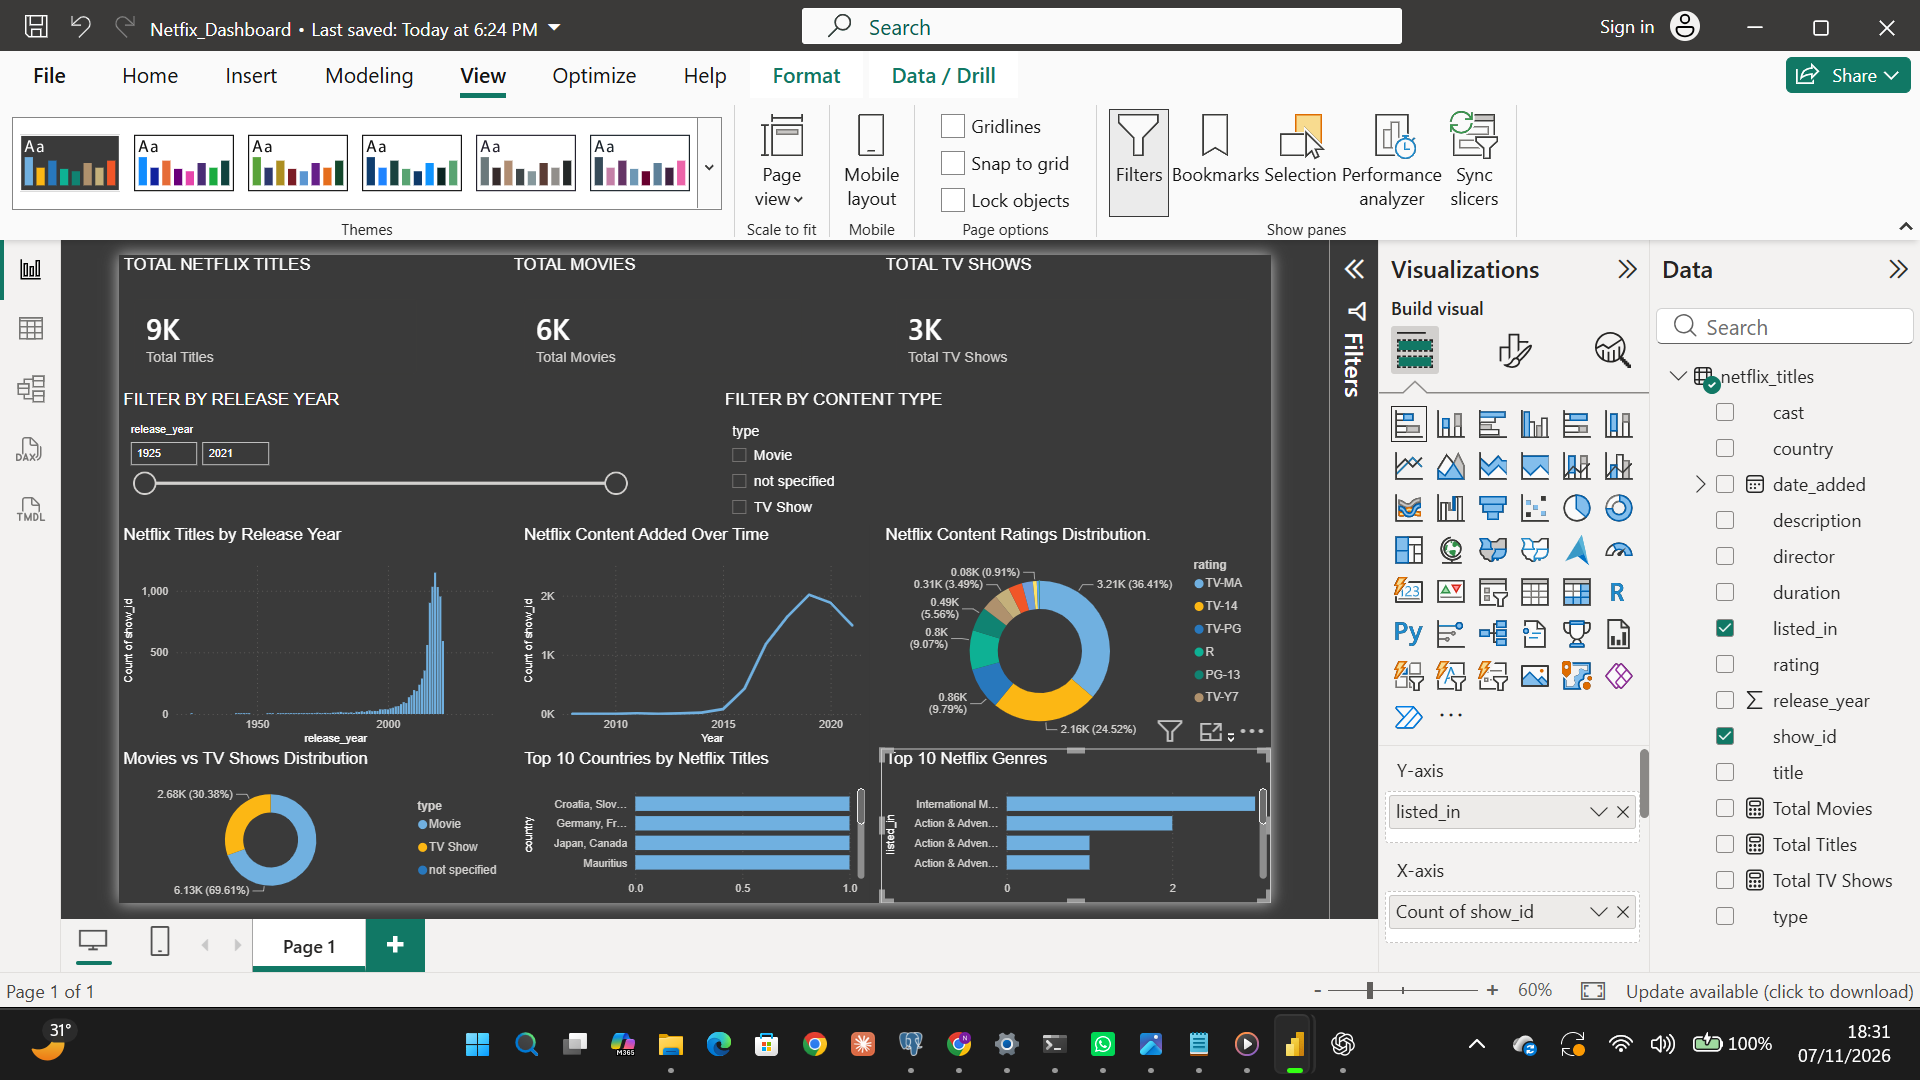

The dashboard page shown, as its layout file describes it:
{"tool":"powerbi","page":{"name":"Page 1","canvas":[1280,720],"ordinal":0},"visuals":[{"type":"donutChart","title":"Movies vs TV Shows Distribution","fields":{"Category":["netflix_titles.type"],"Y":["Count(netflix_titles.show_id)"]},"box":[0,548.3,433.3,171.7],"z":0},{"type":"clusteredBarChart","title":"Top 10 Countries by Netflix Titles","fields":{"Category":["netflix_titles.country"],"Y":["Count(netflix_titles.show_id)"]},"box":[445,548.3,388.3,171.7],"z":1},{"type":"barChart","title":"Top 10 Netflix Genres","fields":{"Category":["netflix_titles.listed_in"],"Y":["Count(netflix_titles.show_id)"]},"box":[846.7,548.3,433.3,171.7],"z":2},{"type":"lineChart","title":"Netflix Content Added Over Time","fields":{"Category":["netflix_titles.date_added.Variation.Date Hierarchy.Year"],"Y":["Count(netflix_titles.show_id)"]},"box":[445,300,388.3,248.3],"z":3},{"type":"clusteredColumnChart","title":"Netflix Titles by Release Year","fields":{"Y":["Count(netflix_titles.show_id)"],"Category":["netflix_titles.release_year"]},"box":[0,300,433.3,248.3],"z":4},{"type":"donutChart","title":"Netflix Content Ratings Distribution.","fields":{"Category":["netflix_titles.rating"],"Y":["Count(netflix_titles.show_id)"]},"box":[846.7,300,433.3,248.3],"z":5},{"type":"cardVisual","title":"TOTAL NETFLIX TITLES","fields":{"Data":["netflix_titles.Total Titles"]},"box":[0,0,348.3,150],"z":6},{"type":"cardVisual","title":"TOTAL MOVIES","fields":{"Data":["netflix_titles.Total Movies"]},"box":[433.3,0,343.3,150],"z":7},{"type":"cardVisual","title":"TOTAL TV SHOWS","fields":{"Data":["netflix_titles.Total TV Shows"]},"box":[846.7,0,426.7,150],"z":8},{"type":"slicer","title":"FILTER BY CONTENT TYPE","fields":{"Values":["netflix_titles.type"]},"box":[668.3,150,611.7,150],"z":9},{"type":"slicer","title":"FILTER BY RELEASE YEAR","fields":{"Values":["netflix_titles.release_year"]},"box":[0,150,573.3,150],"z":10}]}

Visuals, with their boxes on the page's 1280x720 design canvas (x1, y1, x2, y2). These are canvas units, not pixel positions in the 1920x1080 screenshot, which may show the page scaled, cropped or inside an application window:
"Movies vs TV Shows Distribution" donutChart: region(0, 548, 433, 720)
"Top 10 Countries by Netflix Titles" clusteredBarChart: region(445, 548, 833, 720)
"Top 10 Netflix Genres" barChart: region(847, 548, 1280, 720)
"Netflix Content Added Over Time" lineChart: region(445, 300, 833, 548)
"Netflix Titles by Release Year" clusteredColumnChart: region(0, 300, 433, 548)
"Netflix Content Ratings Distribution." donutChart: region(847, 300, 1280, 548)
"TOTAL NETFLIX TITLES" cardVisual: region(0, 0, 348, 150)
"TOTAL MOVIES" cardVisual: region(433, 0, 777, 150)
"TOTAL TV SHOWS" cardVisual: region(847, 0, 1273, 150)
"FILTER BY CONTENT TYPE" slicer: region(668, 150, 1280, 300)
"FILTER BY RELEASE YEAR" slicer: region(0, 150, 573, 300)
